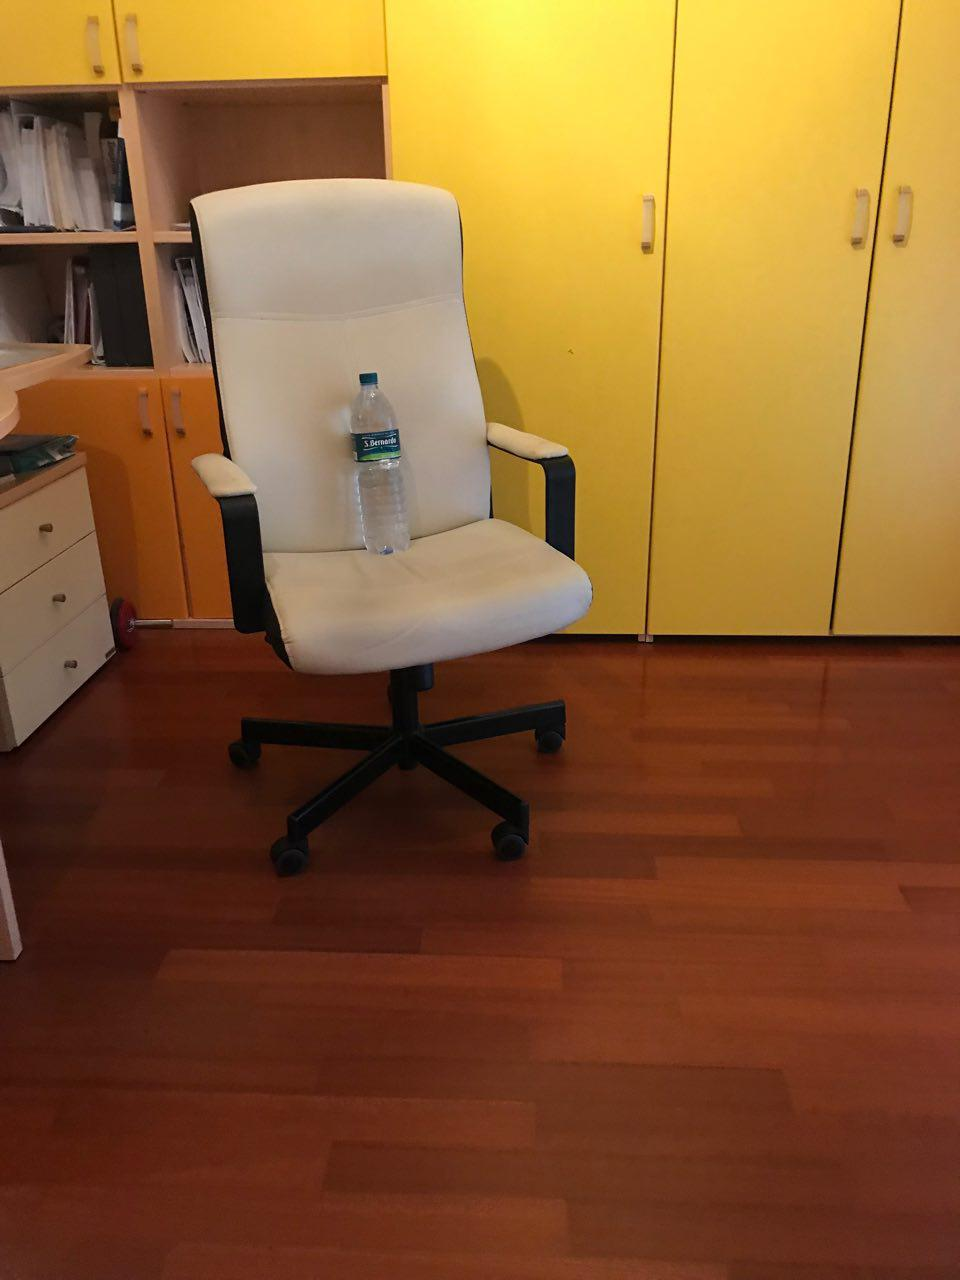san_bernardo: (349, 372, 411, 555)
